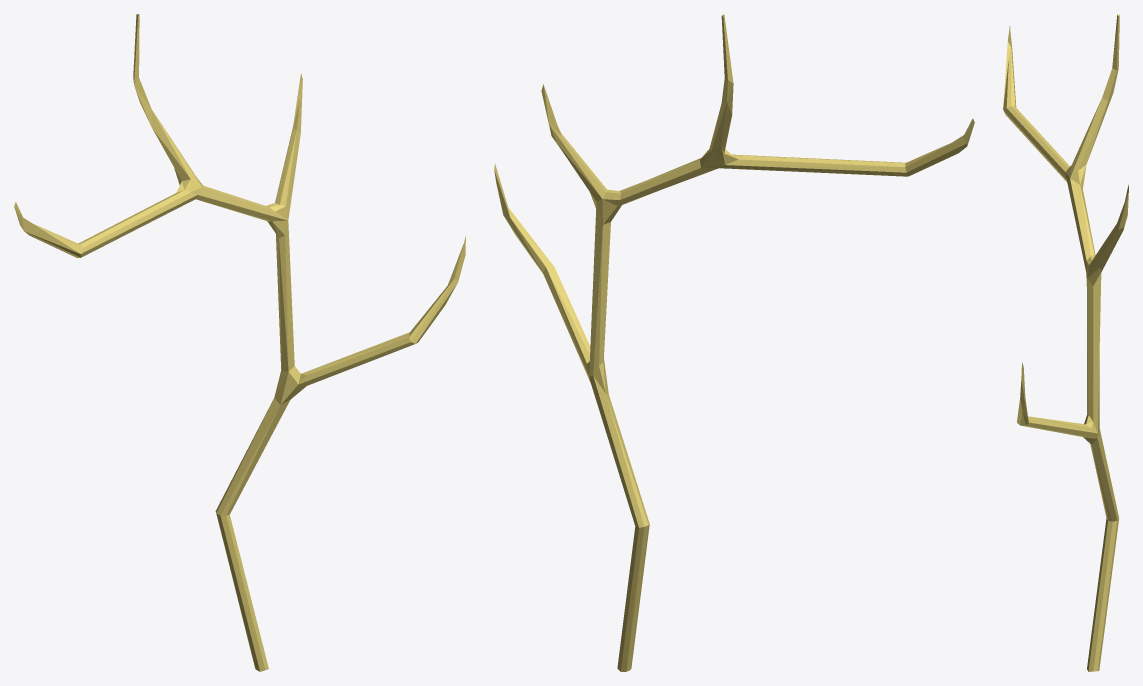
The model's file is Tree_1_Dead.fbx.
The picture shows the model from 3 angles, left to right: view 1: azimuth 30°, elevation 25°; view 2: azimuth 150°, elevation 25°; view 3: azimuth 270°, elevation 25°; orthographic projection. The views are drawn at different scales.
Parts seen in each view (by area): view 1: Tree_1_Dead; view 2: Tree_1_Dead; view 3: Tree_1_Dead.
Part boxes in pixels (x1,y1,x2,y2): Tree_1_Dead: (14,14,465,671); Tree_1_Dead: (494,14,974,671); Tree_1_Dead: (1003,14,1128,671).
Bounding box in the file's own units: 418 × 585 × 110.
